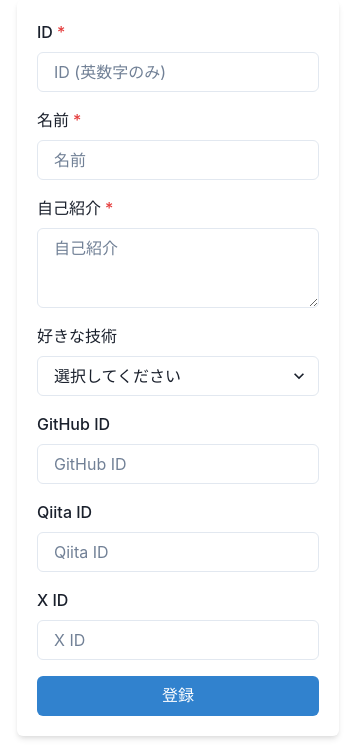
RegisterPage › IDがないときにエラーメッセージがでる
(page scrolled)
Click the button "登録" at (178, 696), box [37,676,319,716]
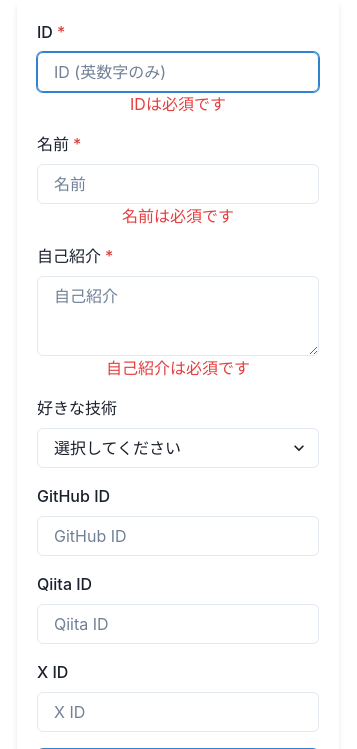
Expected: the text "IDは必須です" is shown, [130,94,226,114]
